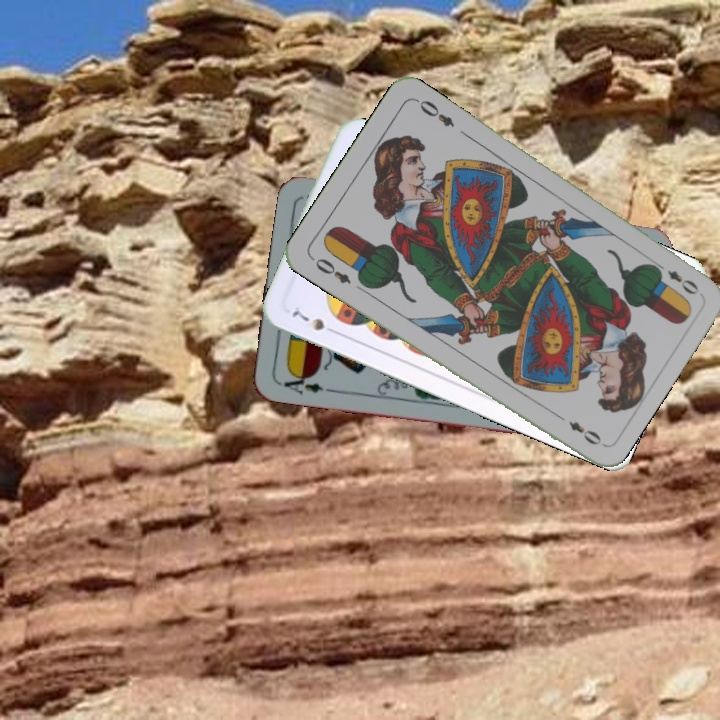EA: (275, 368, 334, 397)
EO: (650, 258, 702, 298), (311, 254, 354, 287)
S7: (287, 306, 341, 337)
